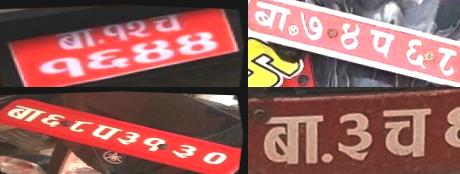0: (202, 148, 231, 164)
1: (35, 53, 91, 82), (99, 20, 131, 43), (142, 135, 171, 151)
2: (122, 17, 154, 38)
3: (330, 102, 382, 171), (170, 141, 202, 158), (115, 128, 144, 144)
4: (125, 36, 178, 64), (170, 27, 220, 56), (335, 16, 367, 52)
6: (436, 89, 460, 160), (84, 45, 136, 72), (402, 32, 433, 72), (39, 112, 67, 126)
7: (297, 5, 329, 43)
8: (433, 38, 460, 75), (68, 118, 95, 132)
ba: (255, 102, 339, 174), (249, 0, 295, 39), (50, 24, 102, 49), (3, 103, 47, 123)
cha: (373, 95, 444, 170), (146, 9, 188, 34)
pa: (365, 17, 400, 64), (89, 122, 124, 140)
